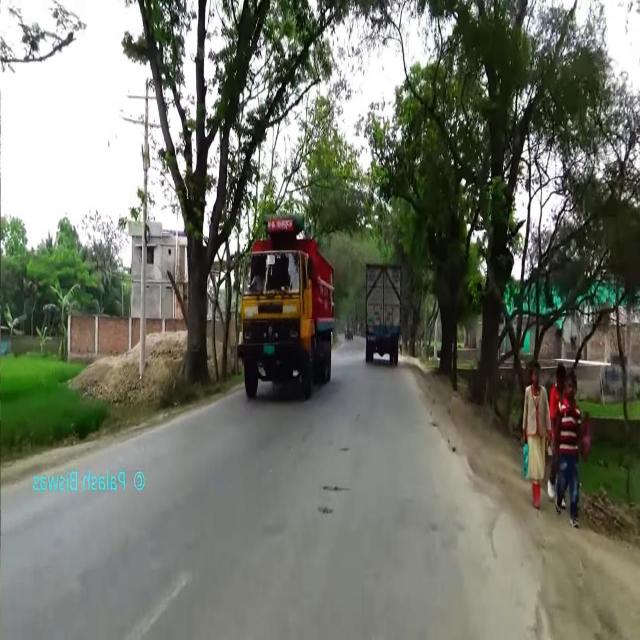pickup-van: (362, 244, 405, 371)
truck: (231, 194, 336, 417)
